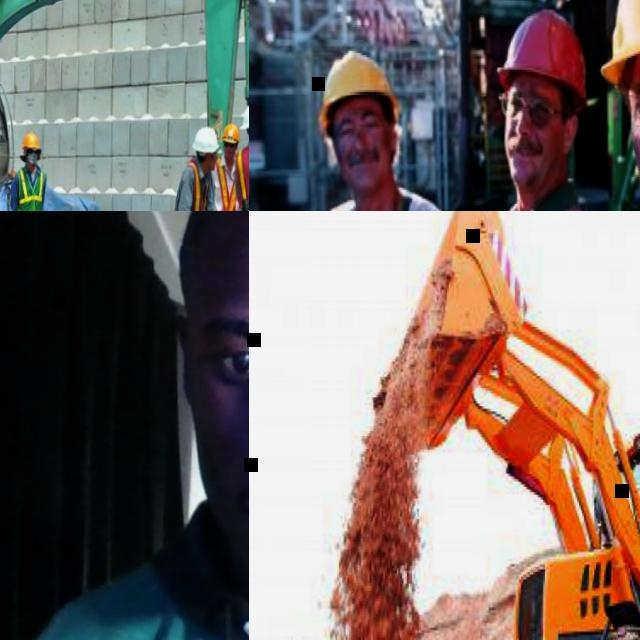Hardhat: (493, 5, 589, 112), (313, 47, 398, 124), (191, 127, 218, 152), (220, 123, 239, 145), (20, 133, 38, 150), (239, 101, 249, 128)
Mask: (24, 155, 37, 166)
NO-Mask: (188, 408, 249, 595), (499, 134, 560, 186), (337, 145, 391, 190), (203, 159, 215, 171), (221, 148, 232, 159)
NO-Safety Vest: (51, 557, 249, 640)
Person: (0, 211, 249, 640), (425, 4, 609, 211), (270, 45, 466, 211), (161, 125, 221, 211), (5, 129, 63, 211), (206, 120, 241, 211)
Safety Vest: (166, 157, 209, 211), (209, 152, 239, 211), (10, 167, 43, 211), (233, 143, 249, 211)
machinery: (358, 211, 640, 640), (0, 0, 249, 211)
